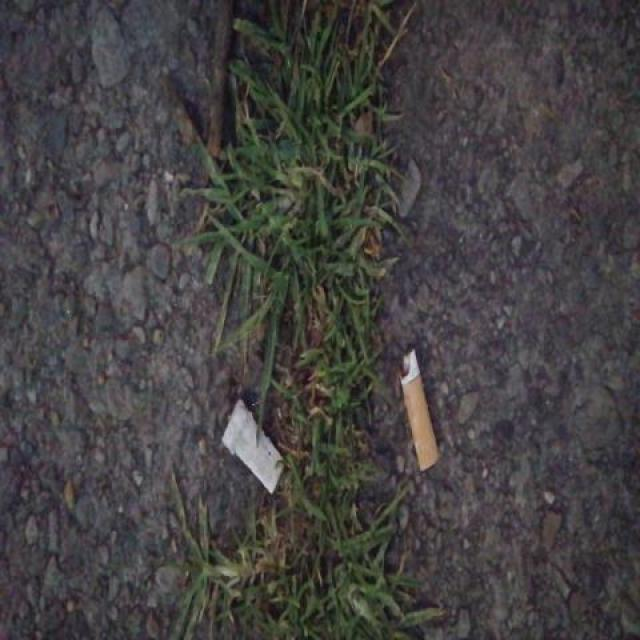non-organic waste: (214, 394, 294, 499), (397, 347, 442, 477)
